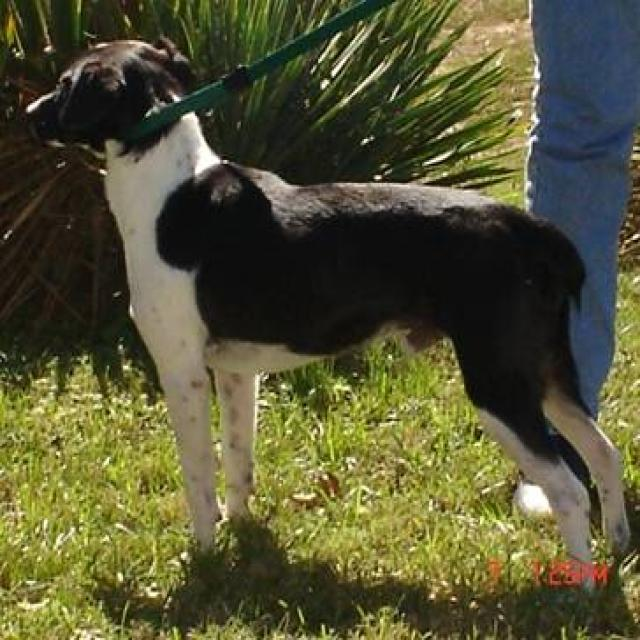dog: (23, 32, 631, 590)
